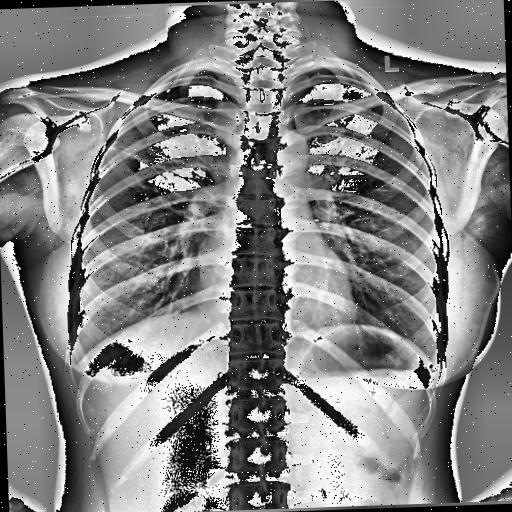11- Pleural thickening: (172, 67, 234, 76)
12- Pneumothorax: (112, 128, 218, 204)
13- Pulmonary fibrosis: (106, 134, 204, 185), (110, 140, 185, 182)
